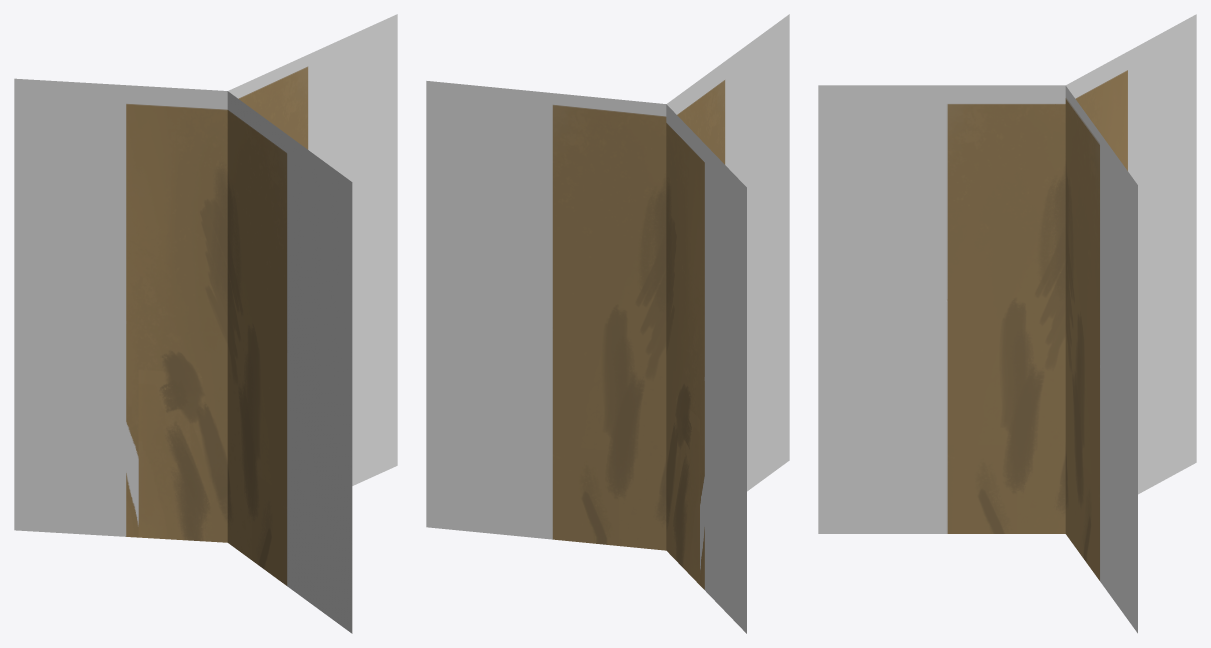
Rendered from Grass.fbx.
3 renders of one model, left to right at view 1: azimuth 30°, elevation 25°; view 2: azimuth 150°, elevation 25°; view 3: azimuth 270°, elevation 25°, orthographic.
Visible parts, largest first — view 1: Gras_2; view 2: Gras_2; view 3: Gras_2.
Part boxes in pixels (x1,y1,x2,y2): Gras_2: [14, 14, 397, 633]; Gras_2: [426, 14, 789, 633]; Gras_2: [818, 14, 1196, 633].
Size of the model in its own units: 173 by 211 by 161.
Materials: 1 (1 with a texture image).
